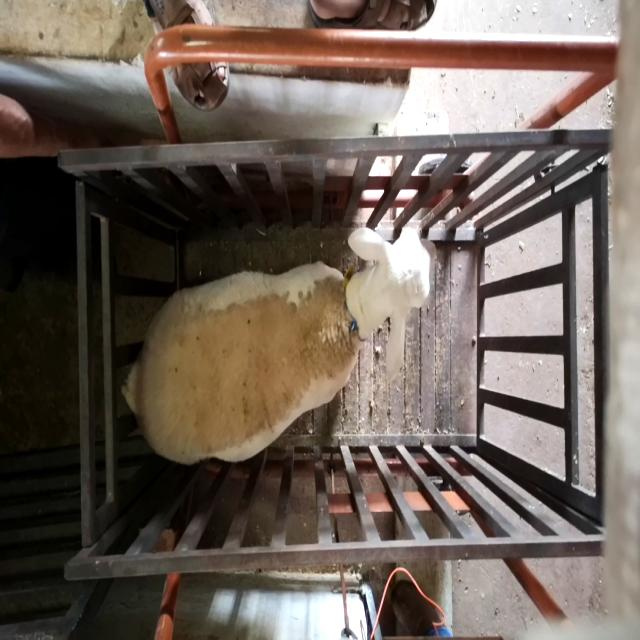sheep: (120, 227, 438, 466)
